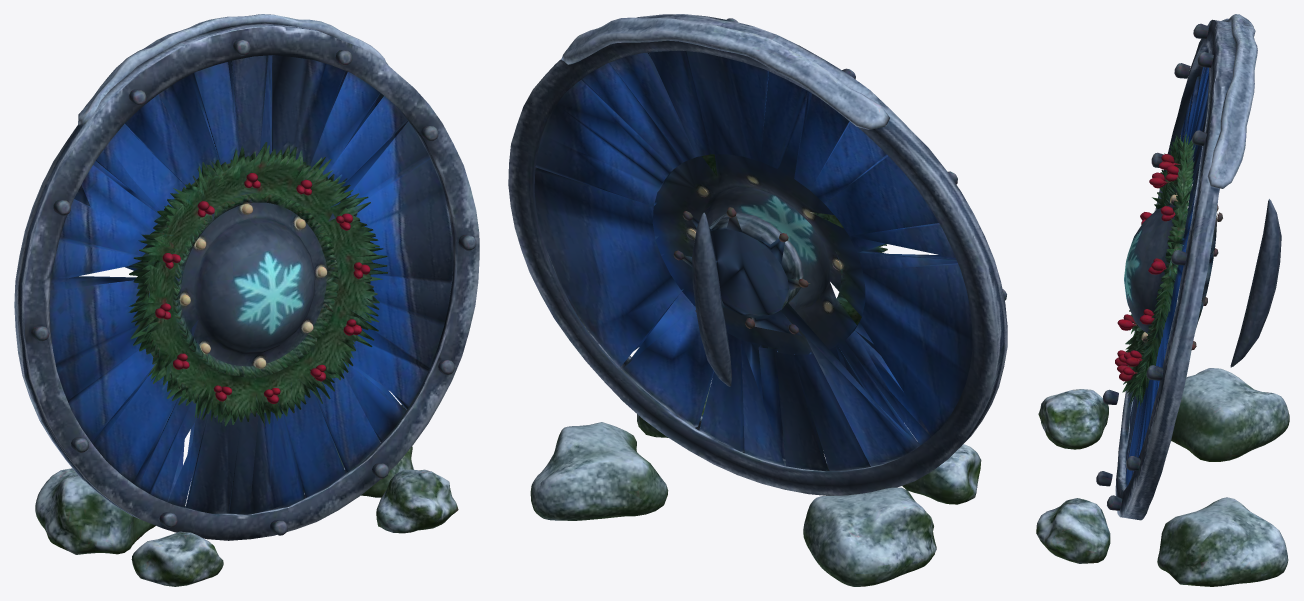
The model's file is prop_hand_guard_shield.glb.
3 views of the same model, side by side, from view 1: azimuth 30°, elevation 25°; view 2: azimuth 150°, elevation 25°; view 3: azimuth 270°, elevation 25° (orthographic). The views are drawn at different scales.
Parts seen in each view (by area): view 1: tripo_node_78da7532-56d8-4ff6-a6e6-46c470aa01ca; view 2: tripo_node_78da7532-56d8-4ff6-a6e6-46c470aa01ca; view 3: tripo_node_78da7532-56d8-4ff6-a6e6-46c470aa01ca.
Boxes of the visible parts, left/top/right/bottom form: tripo_node_78da7532-56d8-4ff6-a6e6-46c470aa01ca: left=14, top=14, right=479, bottom=586; tripo_node_78da7532-56d8-4ff6-a6e6-46c470aa01ca: left=508, top=14, right=1007, bottom=586; tripo_node_78da7532-56d8-4ff6-a6e6-46c470aa01ca: left=1036, top=14, right=1289, bottom=586.
Size of the model in its own units: 1.09 by 1.1 by 0.5421.
1 material, 1 textured.
